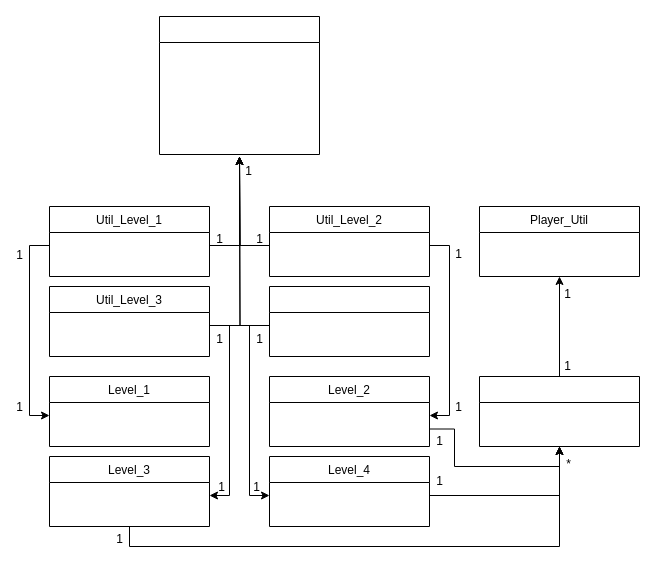
Image size: 656x563. Some labels were removed from this diagram. The shapes that lost their labels are listed below. From the top down, each one's box as (x1, y1, x2, y2) in pixels, then its label:
(158, 16, 320, 154): Util
(268, 286, 430, 356): Util_Level_4
(478, 376, 640, 446): Player
